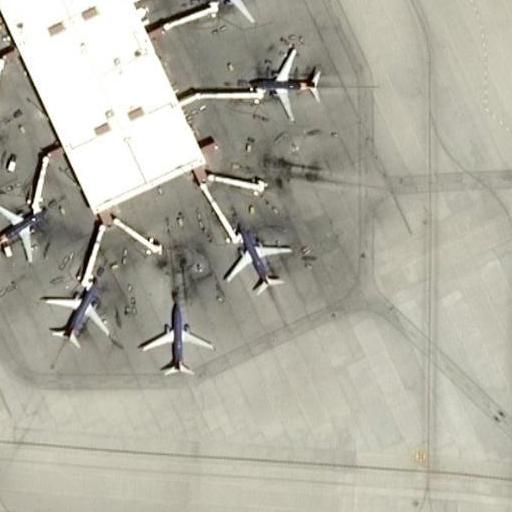Aircraft: (138, 302, 217, 377), (247, 45, 322, 120), (223, 220, 293, 291), (42, 275, 110, 347), (0, 194, 46, 264), (203, 0, 274, 23)
